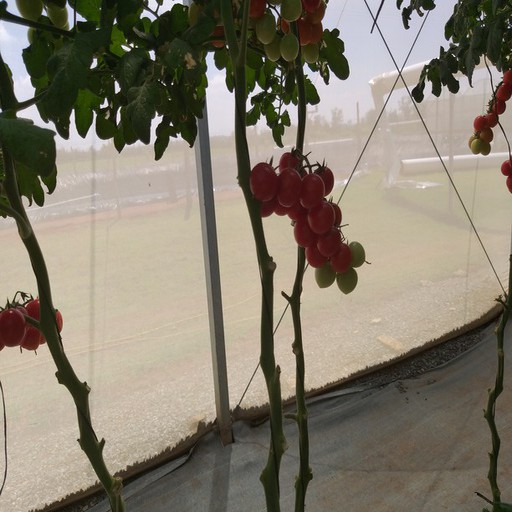green tomato bunch: (19, 1, 71, 44)
mixed tomato bunch: (188, 1, 328, 65), (466, 66, 512, 154)
red tomato bunch: (249, 162, 350, 272), (1, 291, 63, 351)
